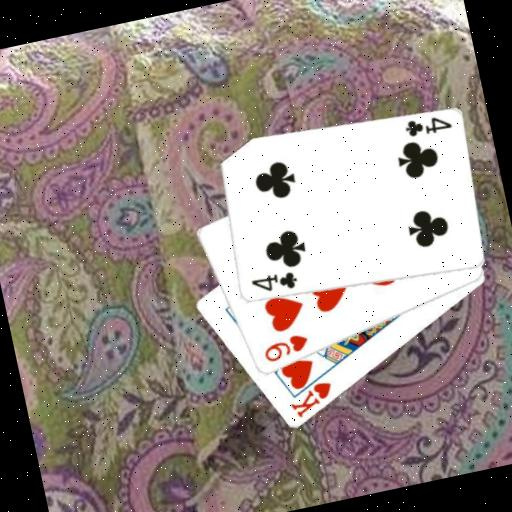4C: (400, 109, 454, 141), (246, 266, 299, 298)
9H: (257, 329, 312, 366)
KH: (283, 377, 338, 421)
